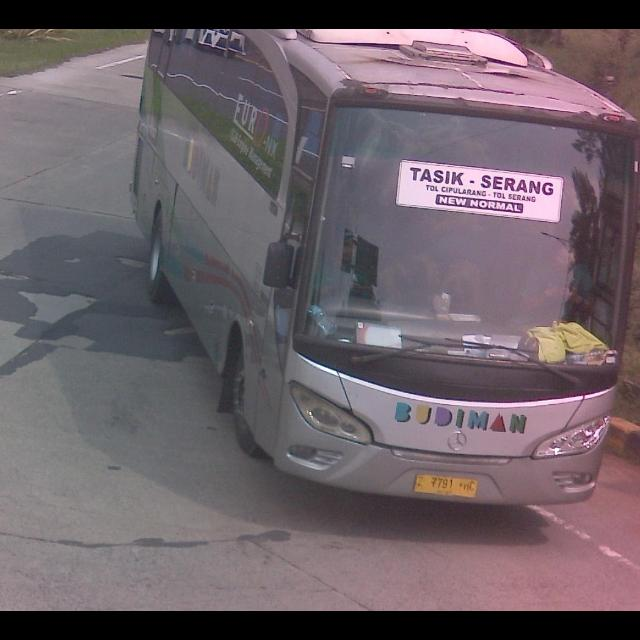plate: (416, 469, 479, 500)
